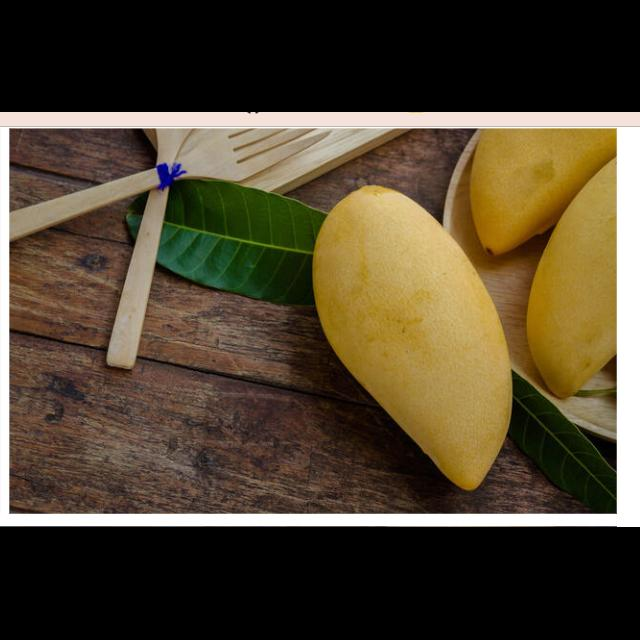mango: (315, 185, 514, 493)
